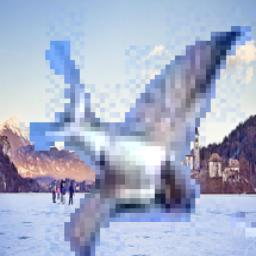Swallow: (19, 8, 256, 256)
